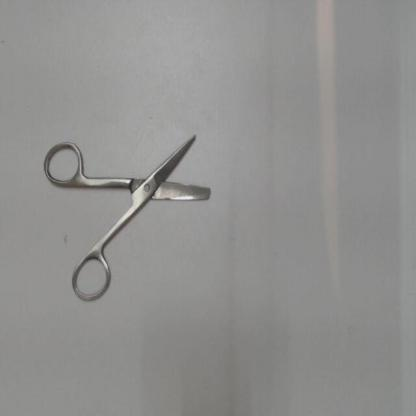Dressing Scissors: (38, 127, 220, 308)
